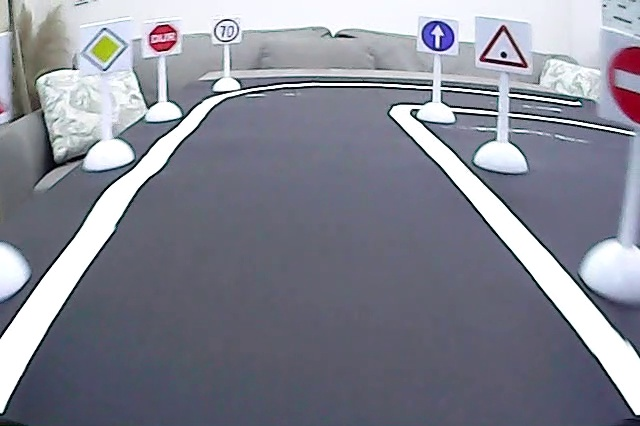green light: (476, 19, 531, 72)
speed limit 70: (212, 17, 241, 45)
stop sign: (144, 19, 179, 57)
